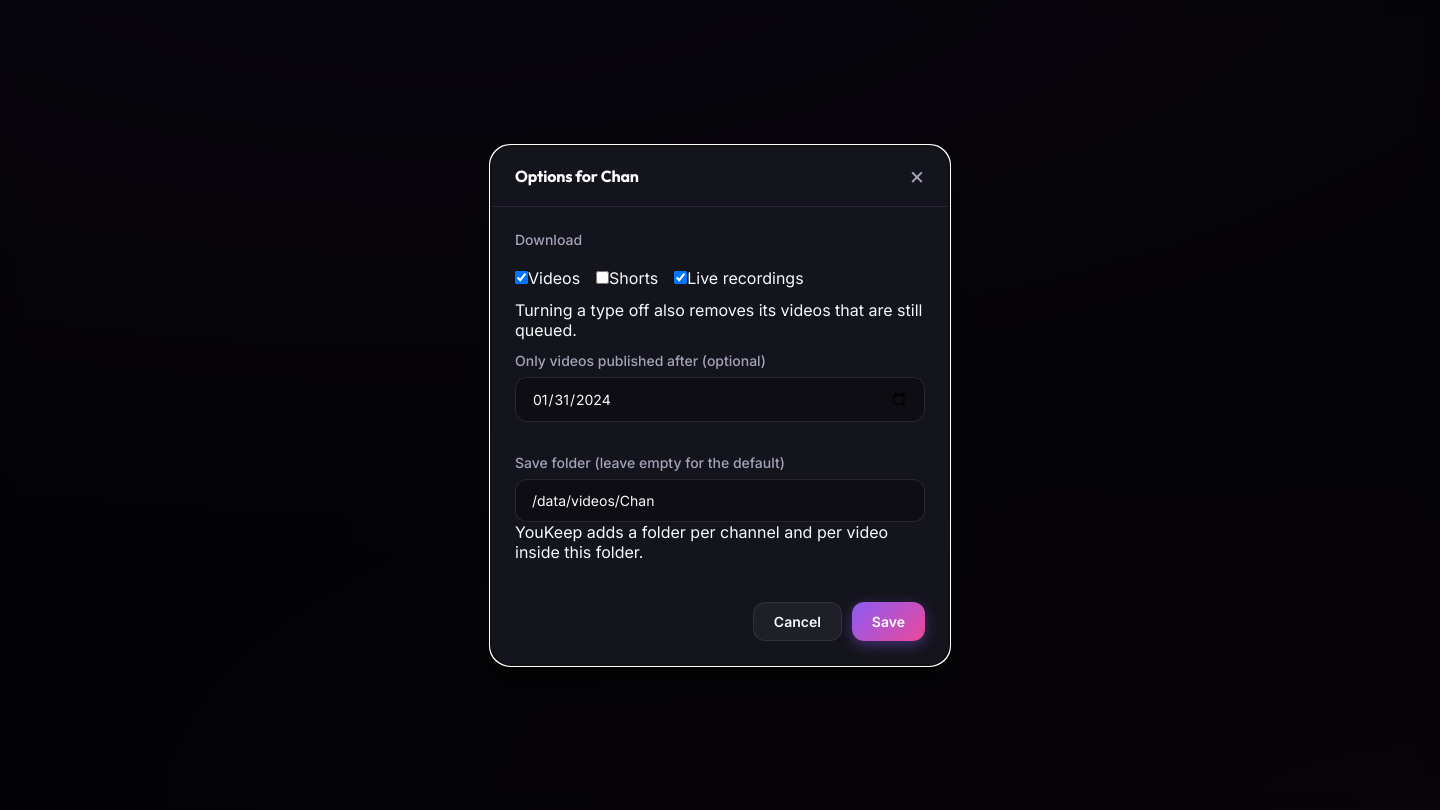
ChannelOptionsModal › after a failed save, shows the error and reloads the form from the server
Step 1. Click the checkbox with test id "opt-shorts" → x=603, y=277, box [596, 270, 609, 284]
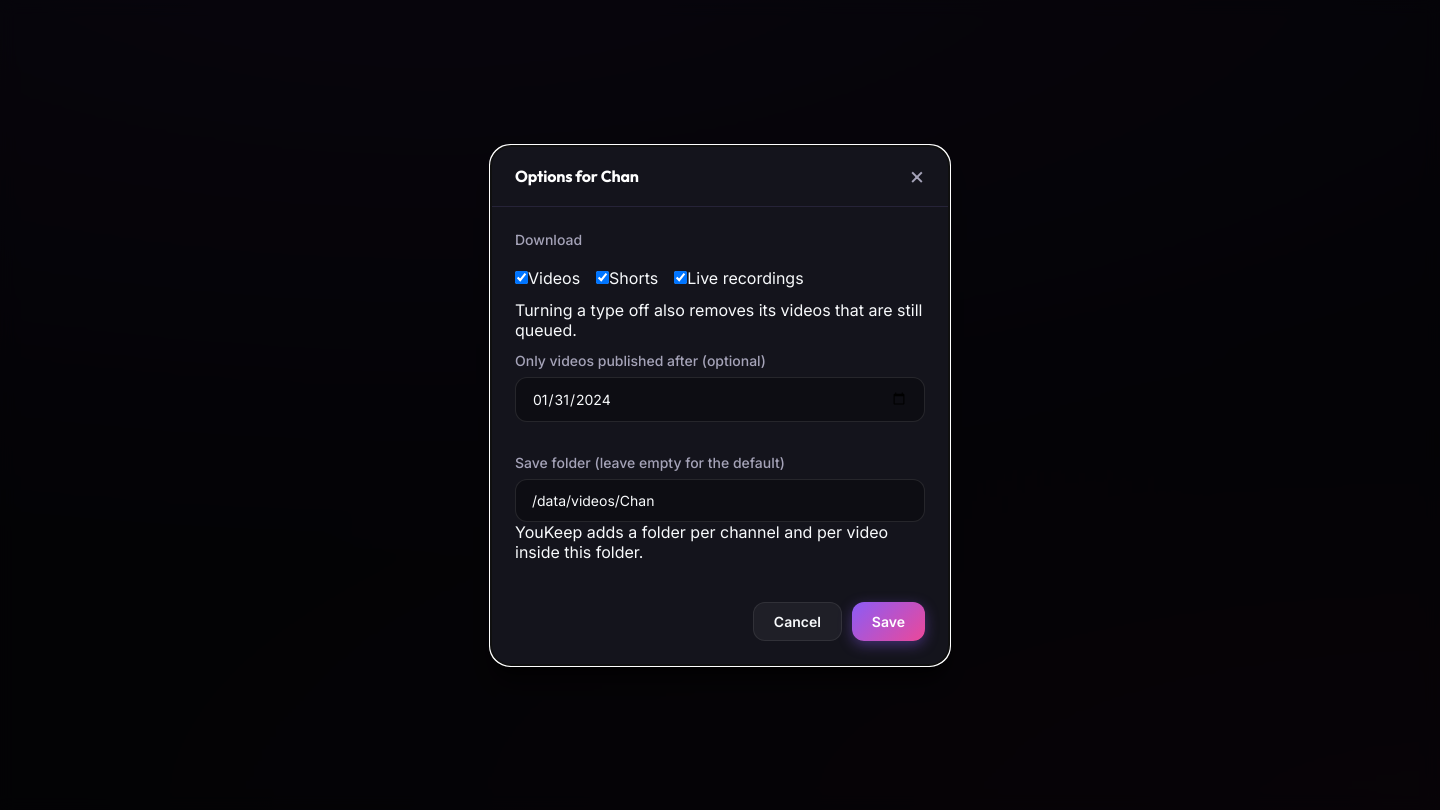
Step 2. Submit the form with test id "channel-options-form", box [515, 230, 925, 640]
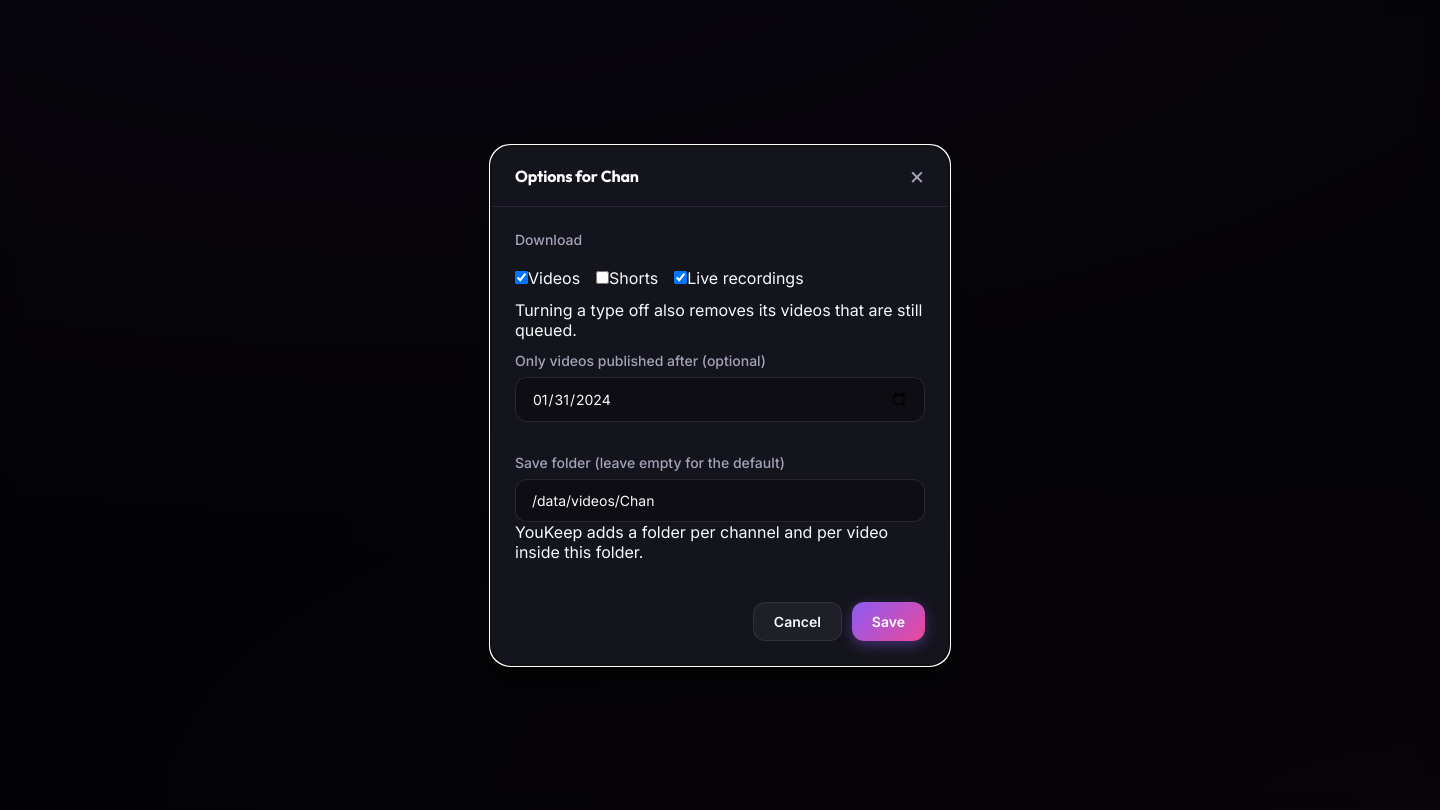
Result: the checkbox with test id "opt-shorts" is not checked at [596, 270, 609, 284]
